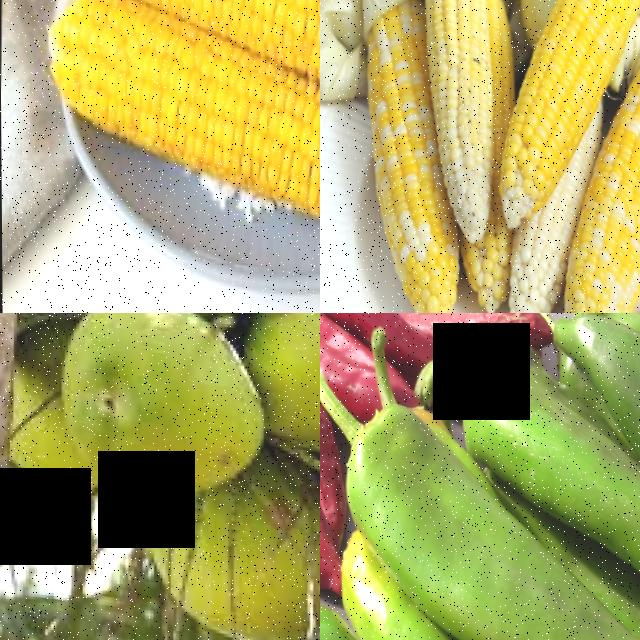chilli: (345, 385, 640, 640)
coconut: (53, 313, 256, 495), (248, 313, 320, 449)
corn: (40, 0, 221, 160), (501, 14, 601, 206), (222, 67, 320, 228), (365, 144, 455, 313), (560, 152, 640, 313), (364, 0, 428, 158), (61, 0, 279, 46), (430, 70, 490, 230), (502, 198, 560, 313), (605, 31, 640, 190), (419, 0, 487, 79), (552, 0, 640, 59)
